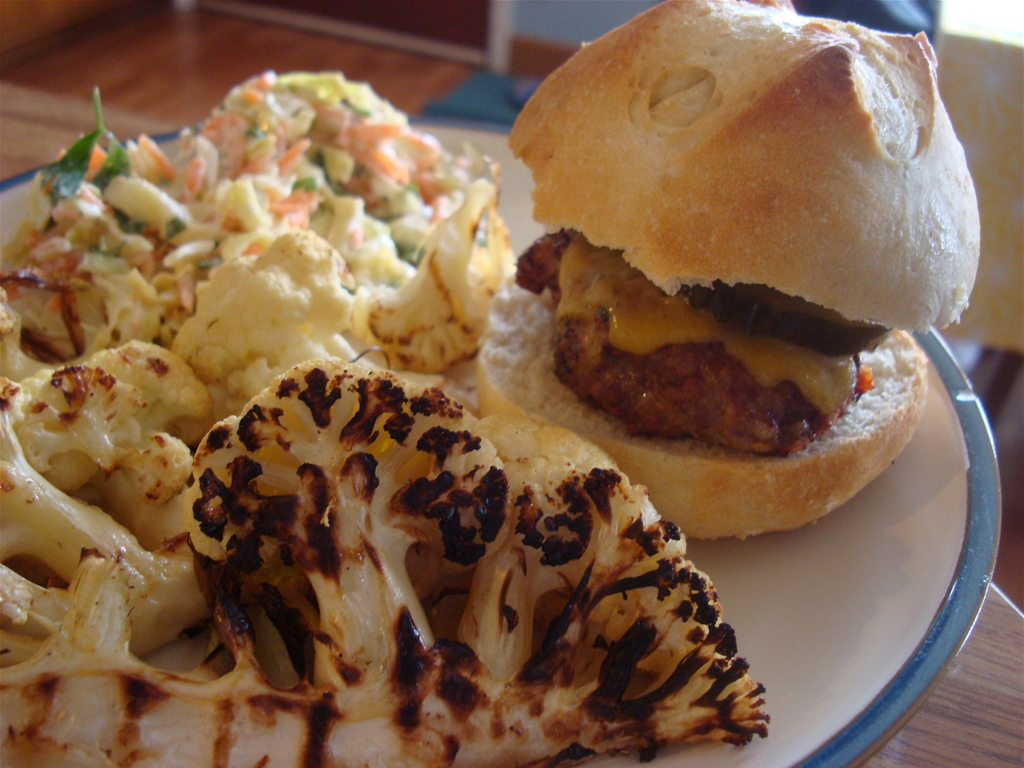Hamburger: (474, 0, 982, 542)
